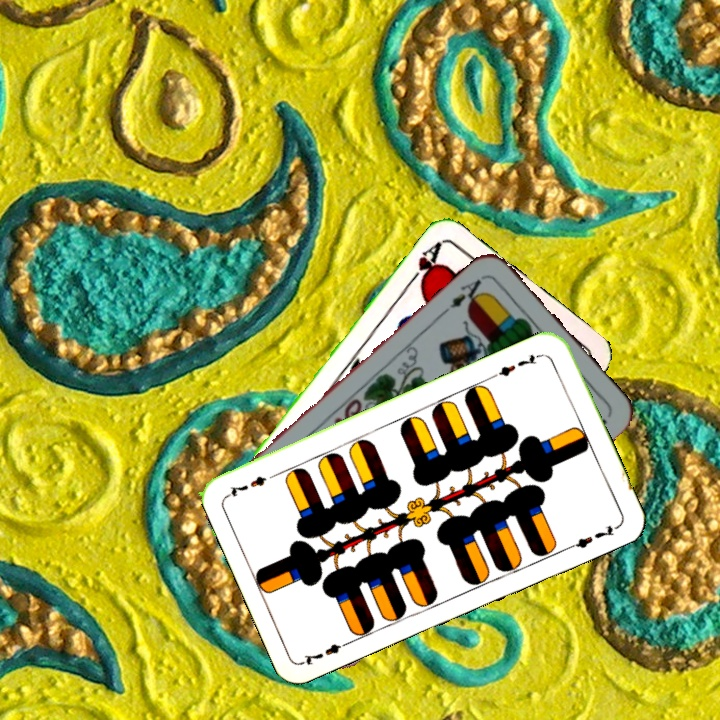E7: (299, 636, 355, 668), (490, 349, 546, 380)
EA: (439, 271, 488, 316)
HA: (403, 237, 445, 293)
